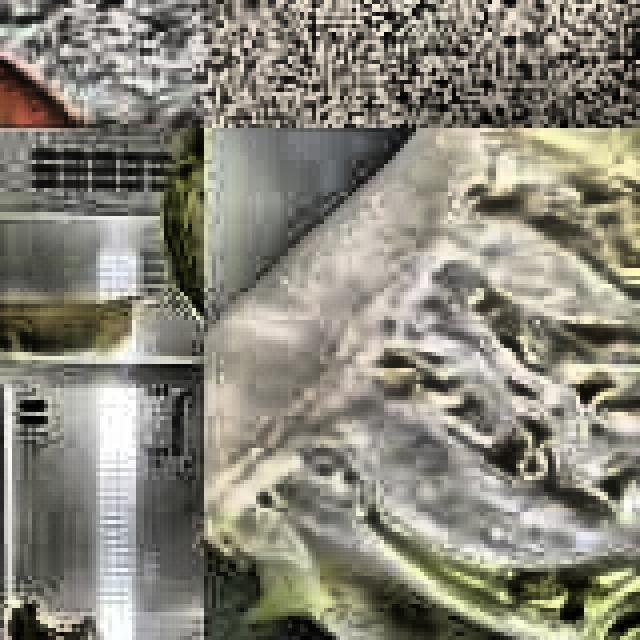cabbage: (204, 128, 640, 640)
egg: (0, 4, 92, 128)
